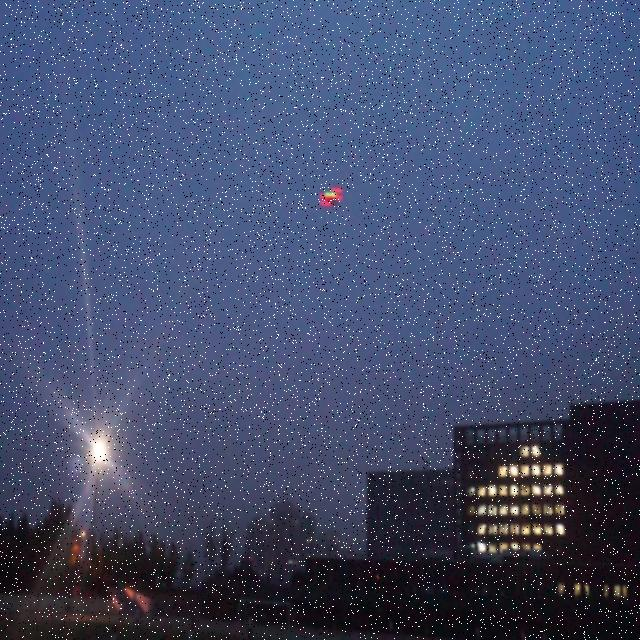UAV: (320, 187, 342, 206)
